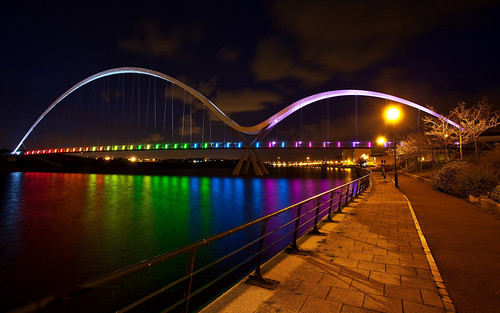bridge: (16, 63, 472, 156)
pathway: (373, 166, 500, 313)
river: (1, 175, 338, 313)
sky: (13, 1, 500, 118)
tree: (458, 96, 500, 152), (419, 107, 460, 157)
